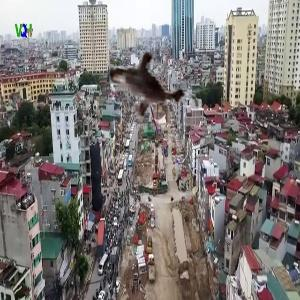drone: (79, 31, 205, 157)
